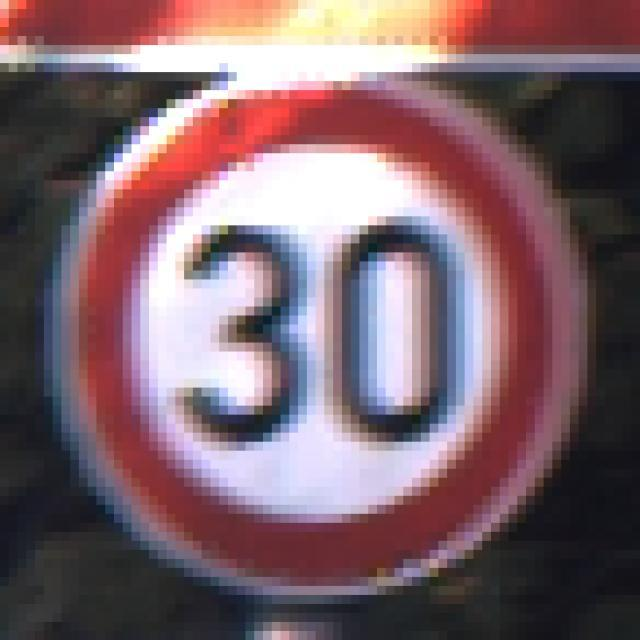Speed Limit -30-: (48, 49, 574, 582)
